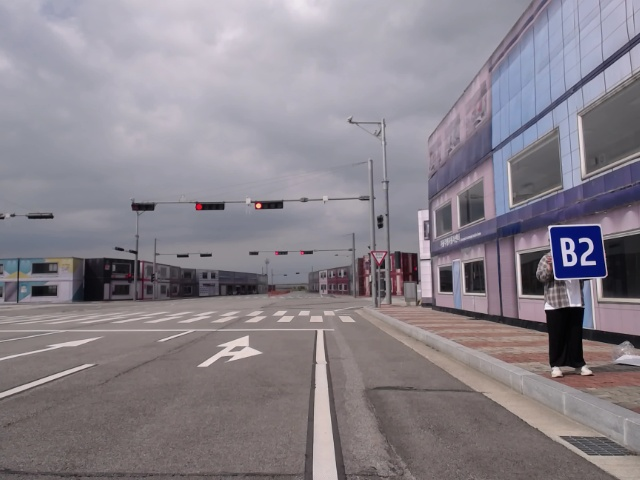delivery_b2: (547, 223, 610, 282)
red_4: (194, 199, 226, 213), (254, 199, 286, 210), (273, 250, 291, 256), (299, 250, 317, 256)
